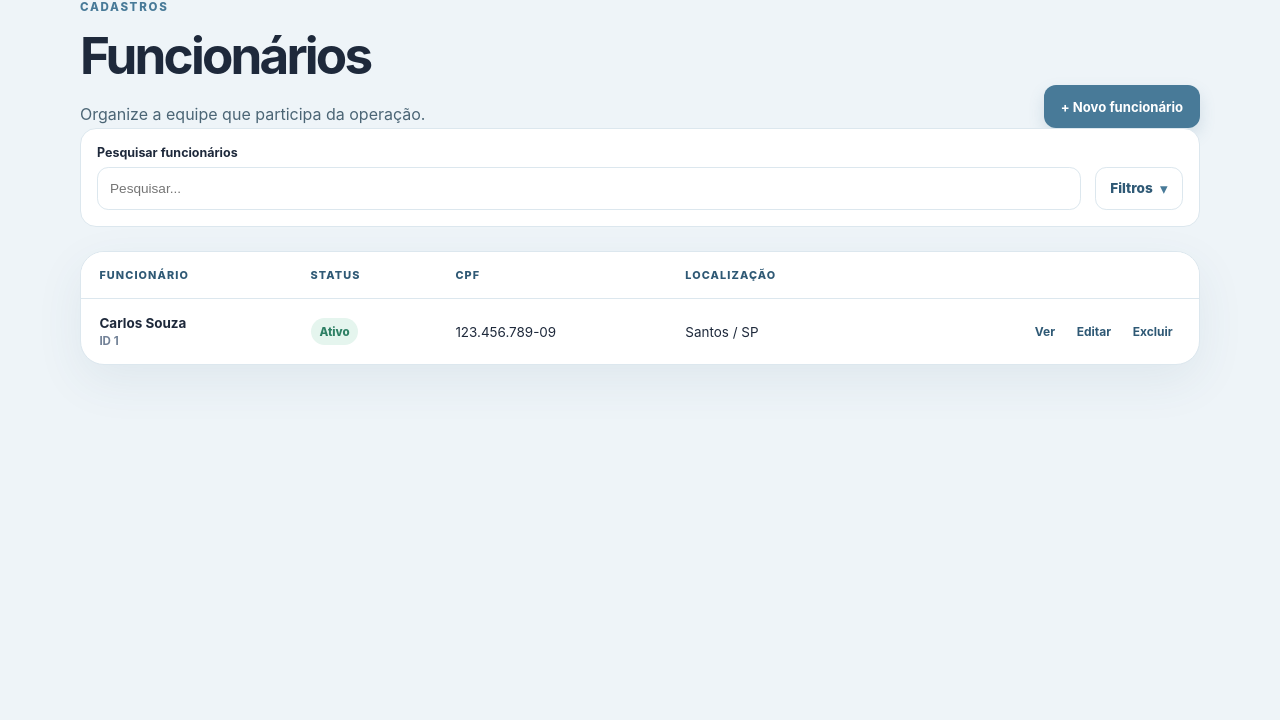
Scenario: EmployeesPage filter infrastructure pilot › clears search and active filters back to the unfiltered listing
Expected: the text "Carlos Souza" is shown, left=99, top=315, right=186, bottom=331
Step 1. Type "Carlos" into the search field labelled "Pesquisar funcionários" → (589, 188), box left=97, top=167, right=1081, bottom=210
Step 2. Click the button "Filtros ▾" → (1139, 188), box left=1095, top=167, right=1183, bottom=210
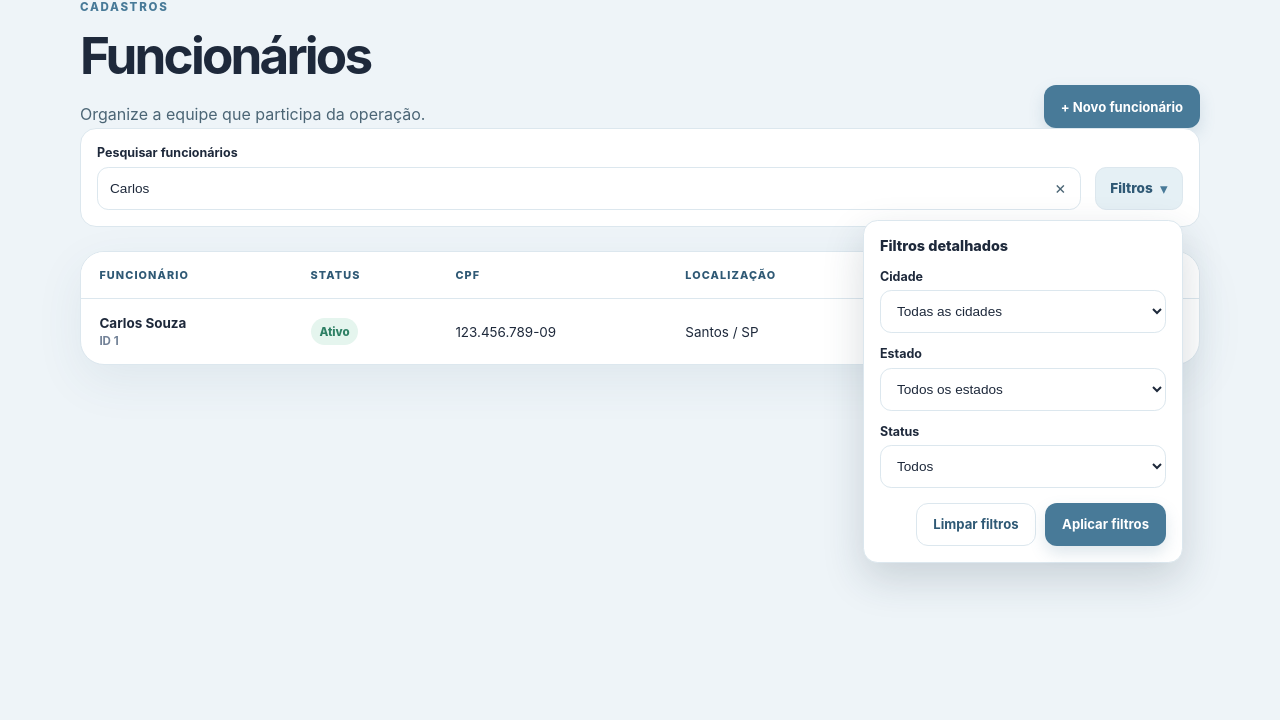
Step 3. Select "Ativos" in the dropdown labelled "Status" → (1023, 467), box left=880, top=445, right=1166, bottom=488
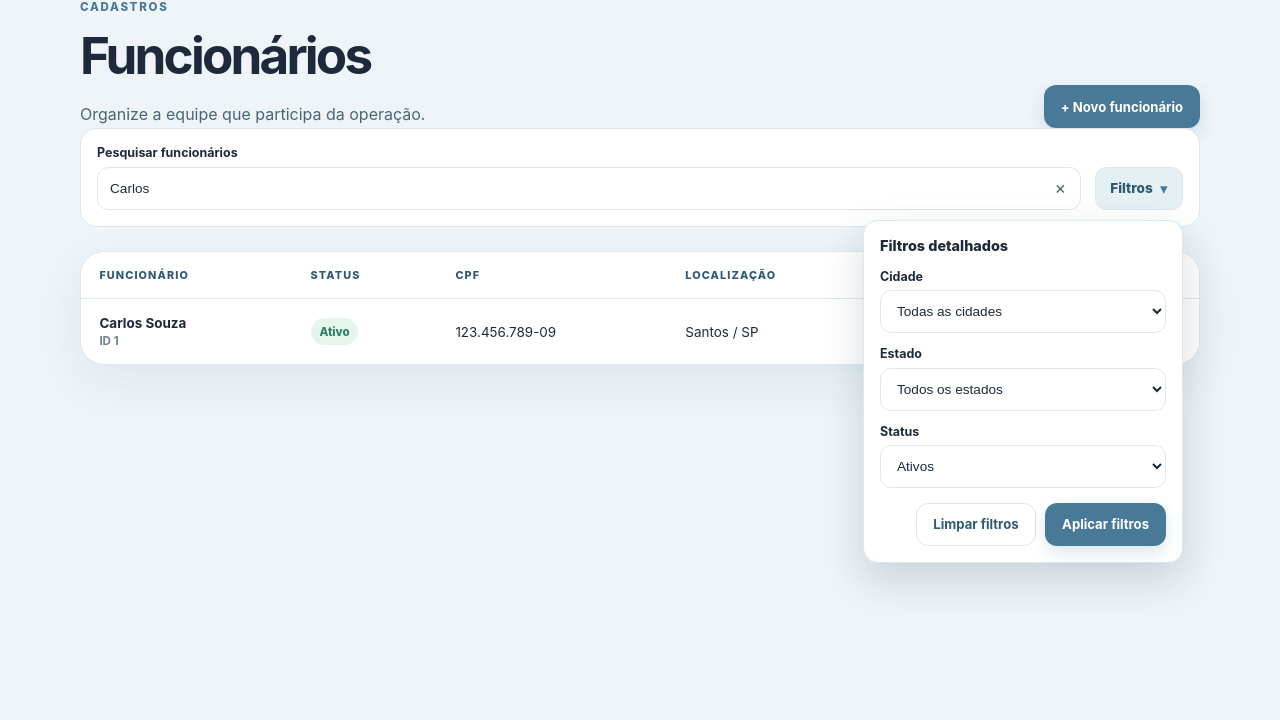
Step 4. Click the button "Aplicar filtros" → (1106, 524), box left=1045, top=502, right=1166, bottom=546
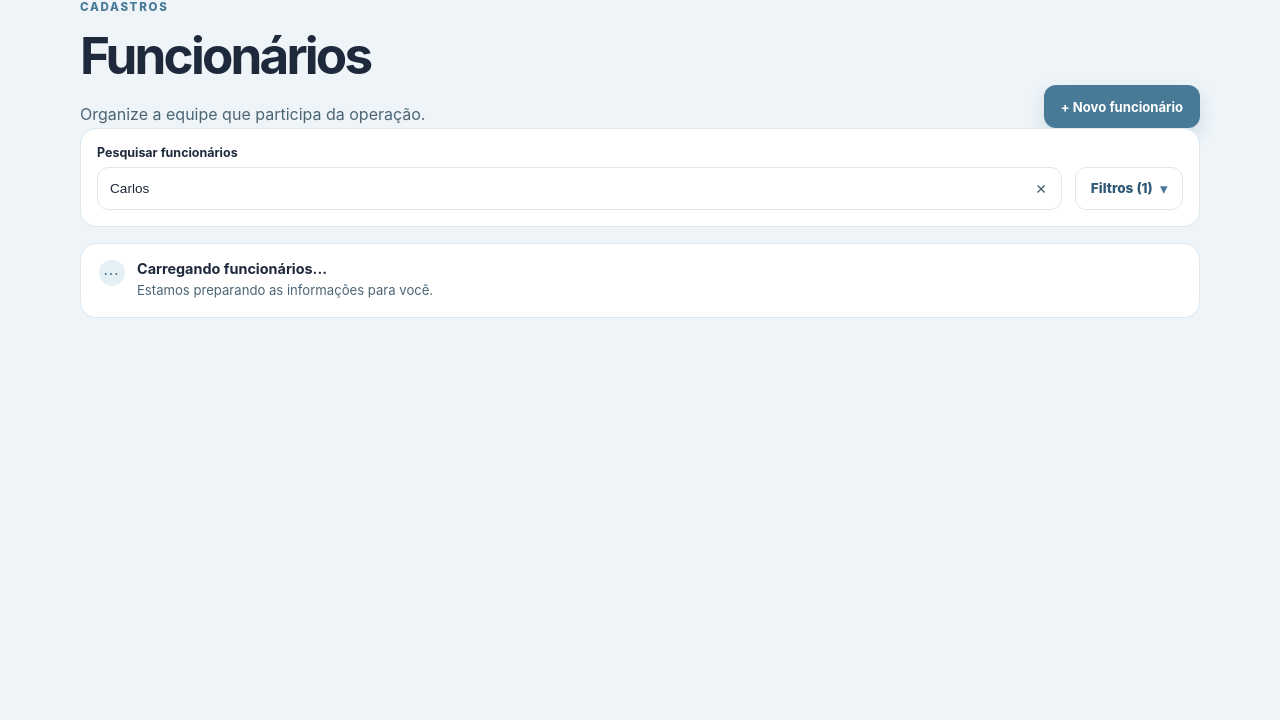
Step 5. Click the button "Filtros (1) ▾" → (1129, 188), box left=1075, top=167, right=1183, bottom=210
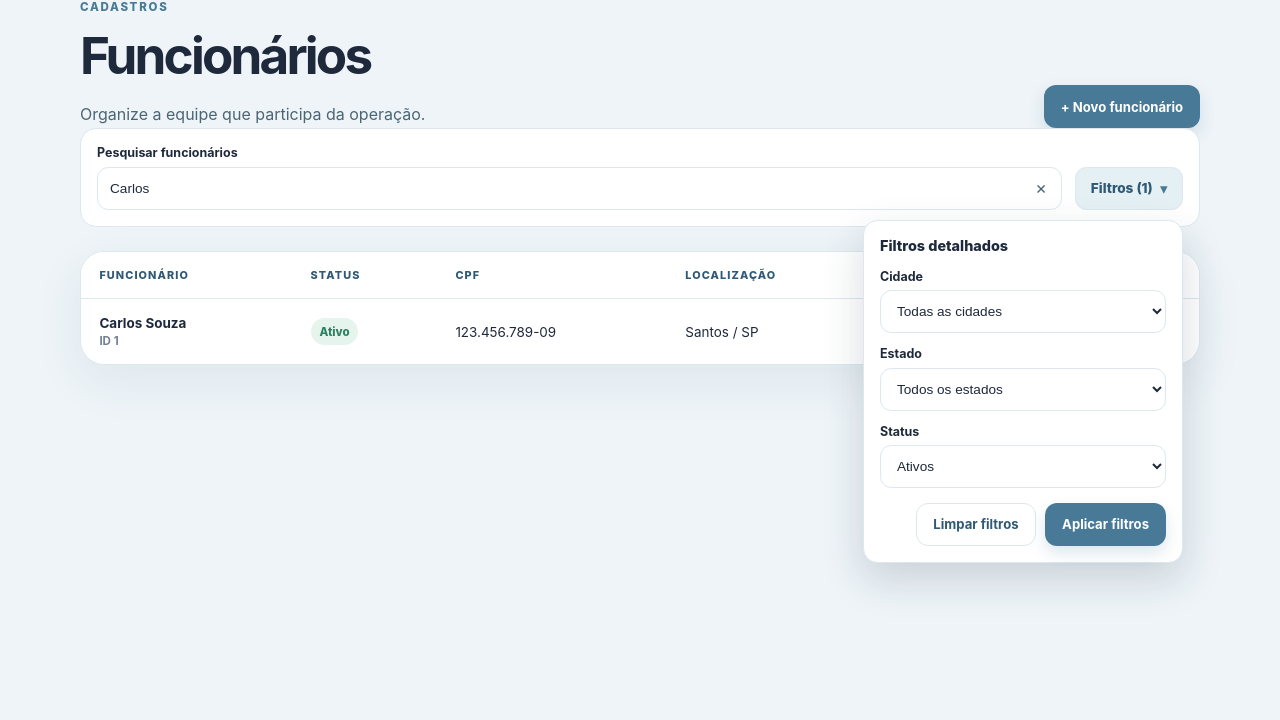
Step 6. Click the button "Limpar filtros" → (976, 524), box left=916, top=502, right=1036, bottom=546
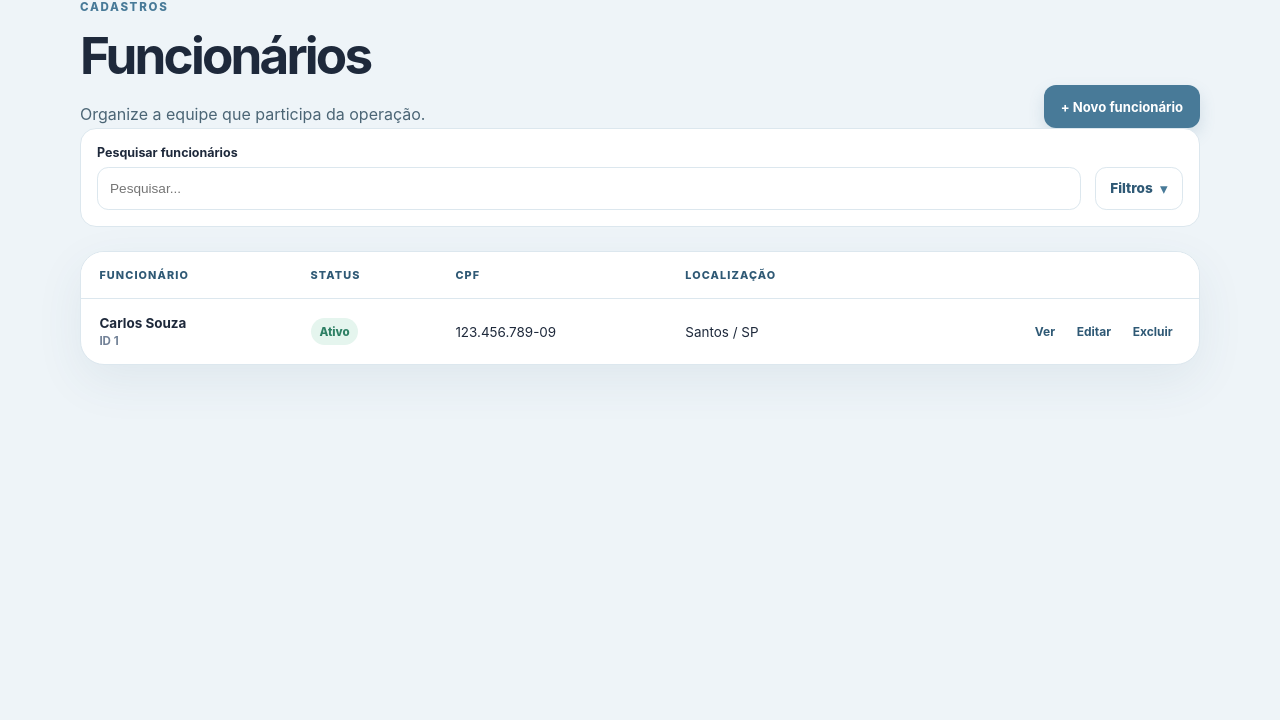
Result: the search field labelled "Pesquisar funcionários" is empty at left=97, top=167, right=1081, bottom=210
Step 7. Click the button "Filtros ▾" → (1139, 188), box left=1095, top=167, right=1183, bottom=210
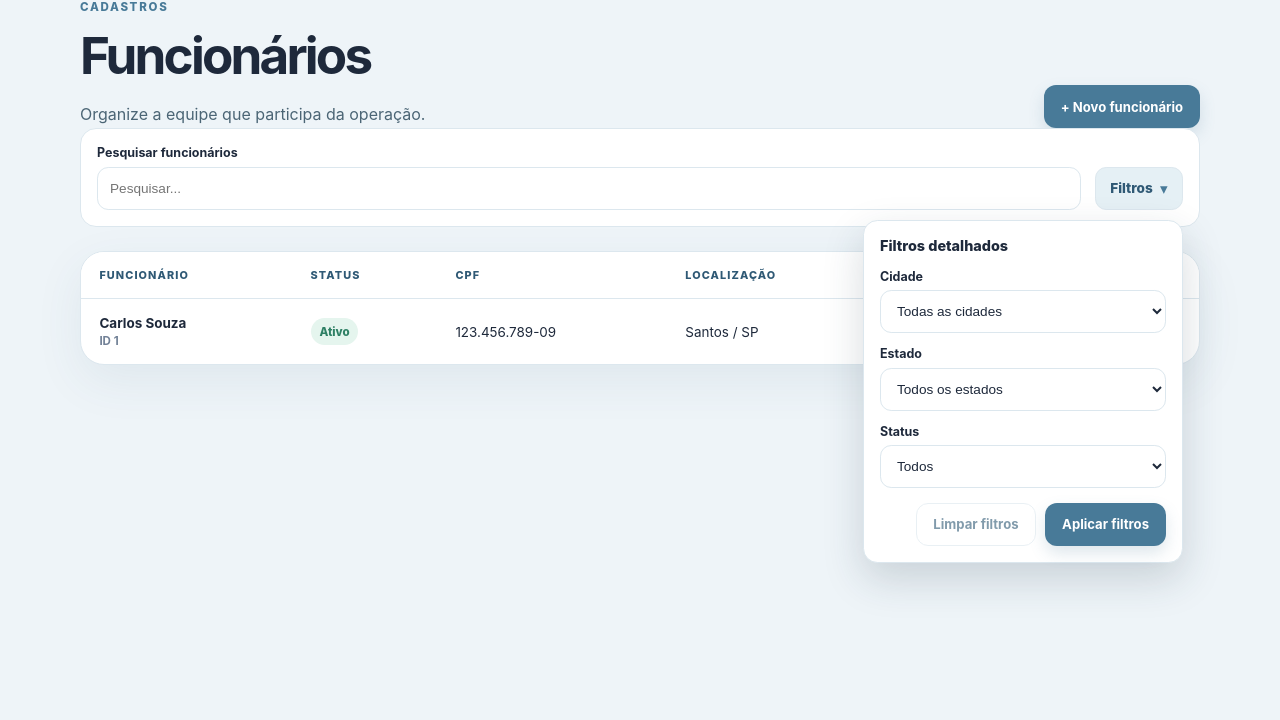
Result: the dropdown labelled "Status" shows "Todos" at left=880, top=445, right=1166, bottom=488
